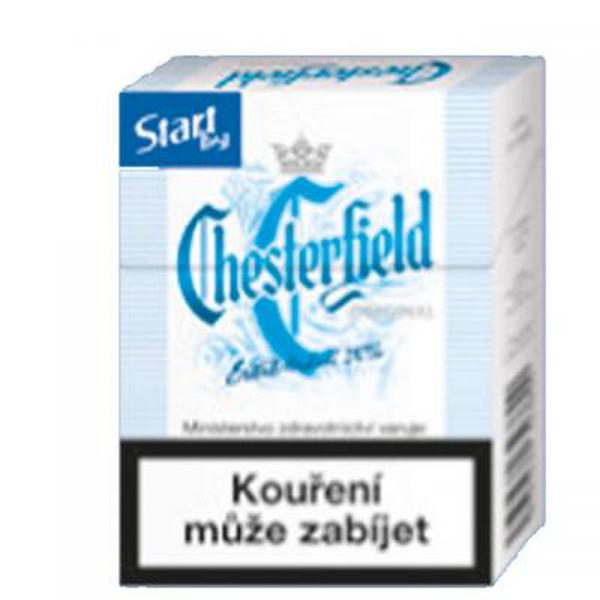chesterfield_blue: (120, 94, 493, 586)
